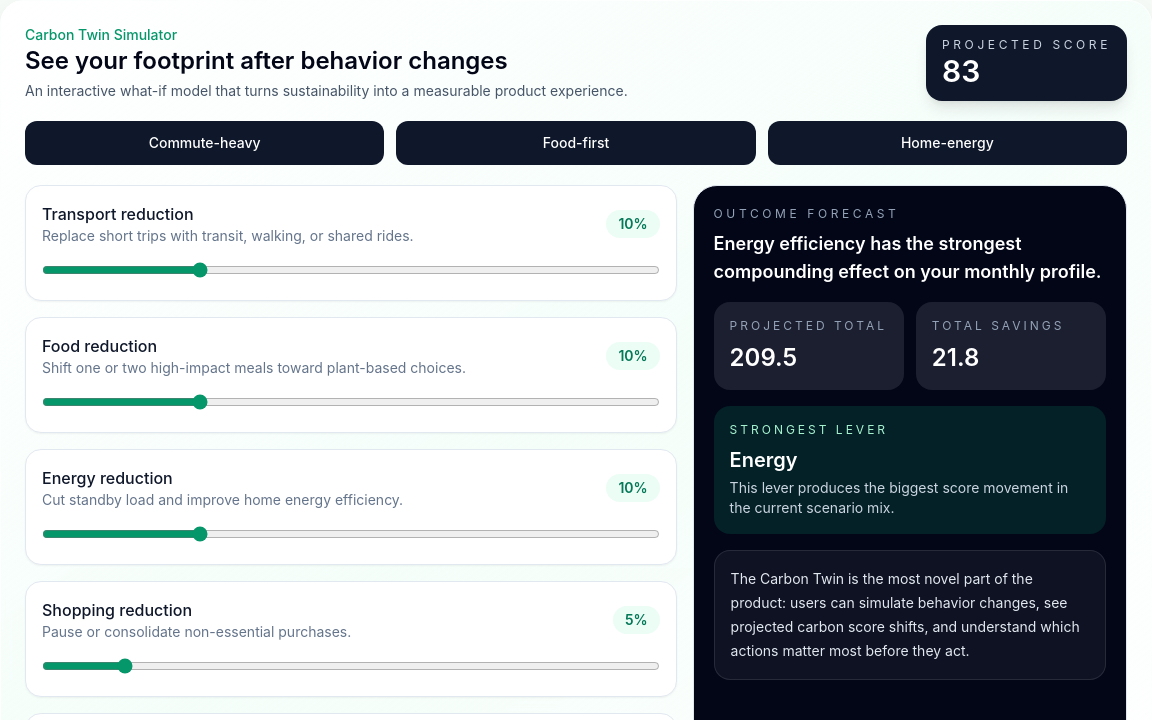
Test: CarbonTwinSimulator › clicking Food-first preset updates food slider
Click the button "Food-first".
click(576, 143)  # box [396,121,756,165]
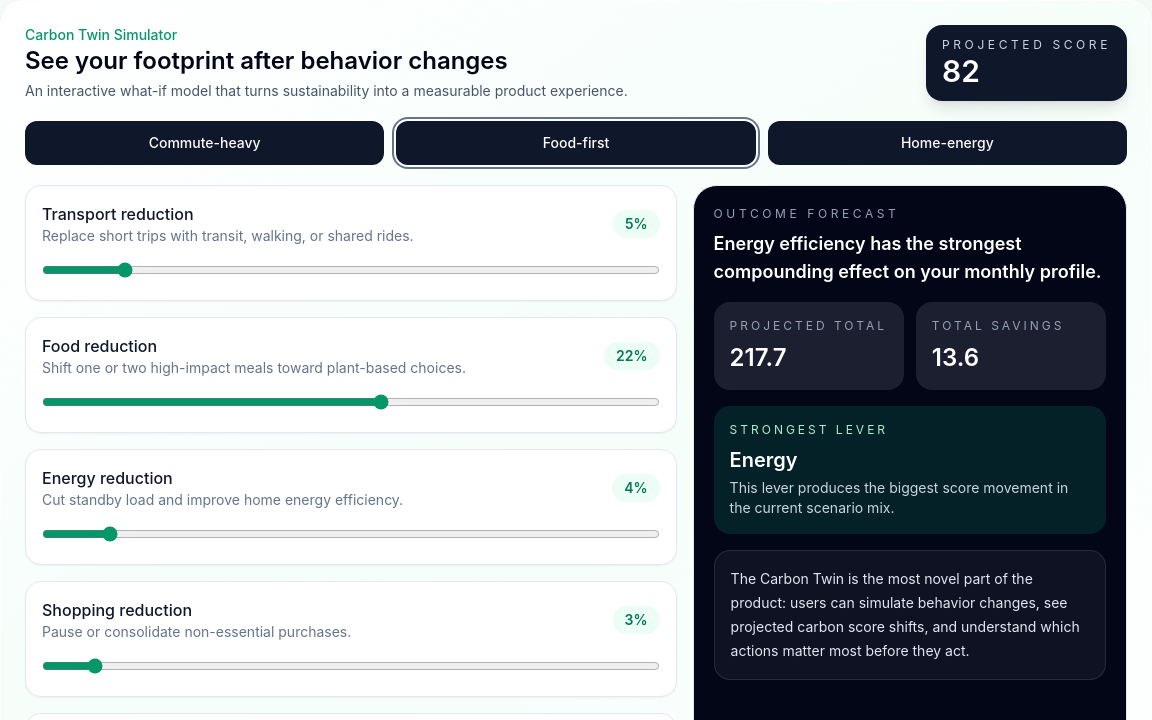
Check: the slider labelled "Food reduction" holds "22", box [42,394,660,410]
